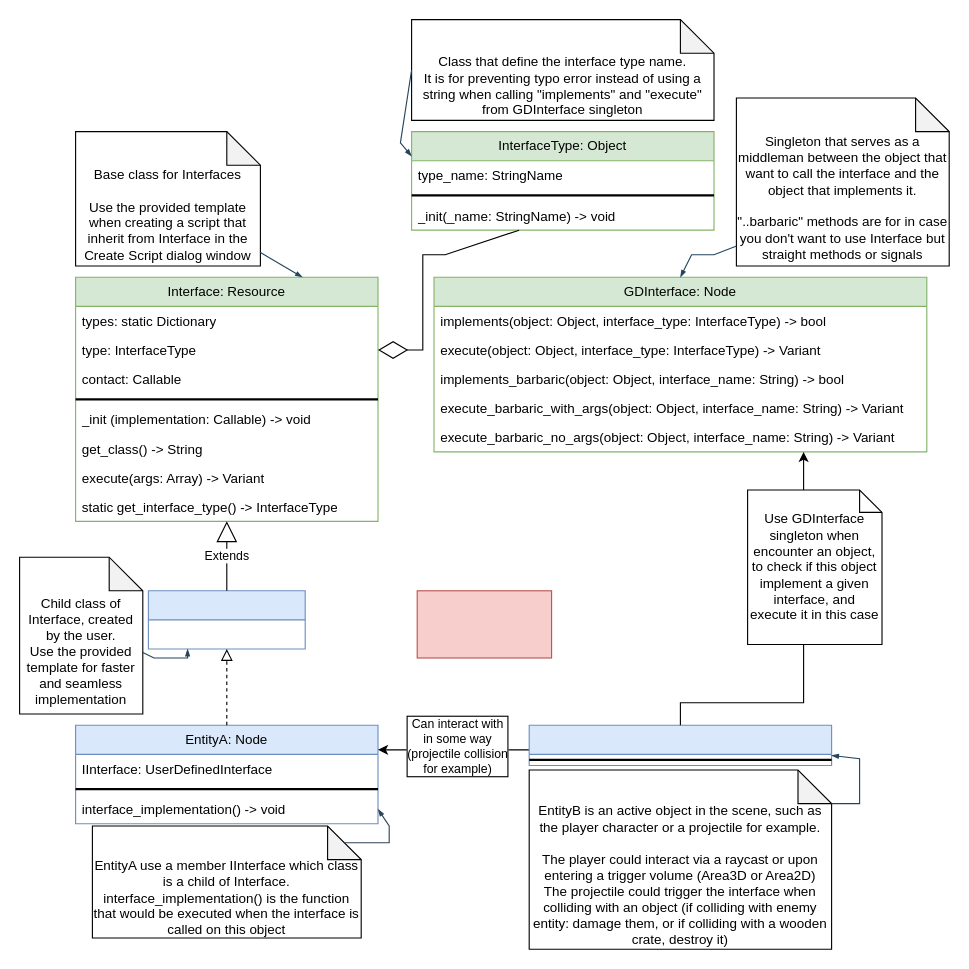
Image size: 969x969. Some labels were removed from this diagram. Here are the shapes that lost their labels. From the top down, the centre of each, then its label:
At (x=226, y=619): "UserDefinedInterface: Interface".
At (x=484, y=624): "GDInterface class diagram".
At (x=680, y=745): "EntityB : Node".
